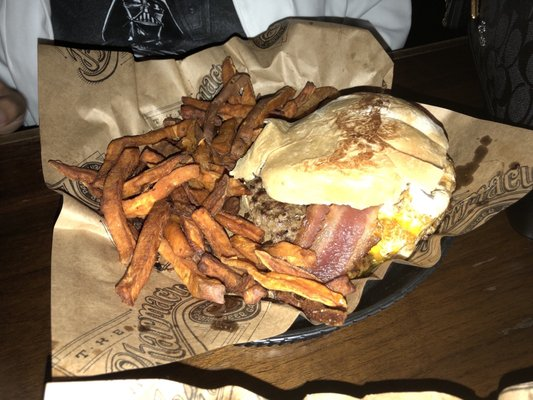soup: (229, 89, 457, 289)
